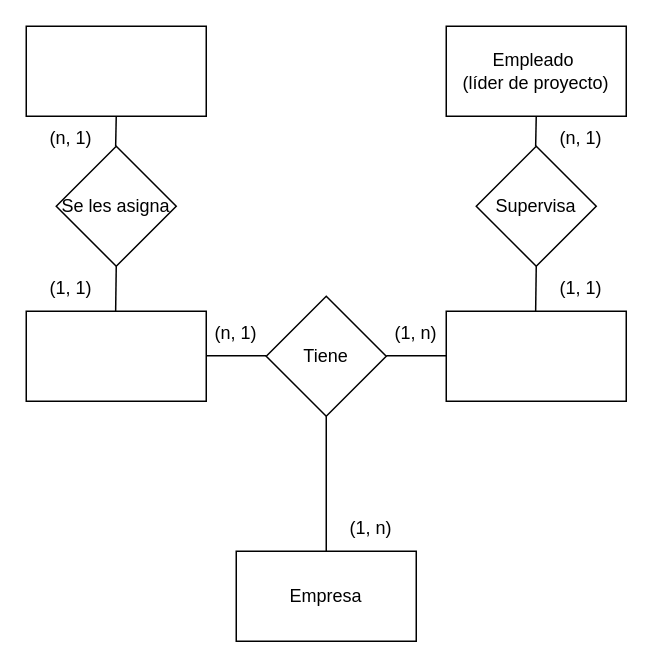
This 653x668 diagram has some shape labels left out. Each missing label, with the centre of its shape:
"Empleado(s)" goes at (115,355).
"Proyecto(s)" goes at (535,355).
"Tareas" goes at (115,70).
